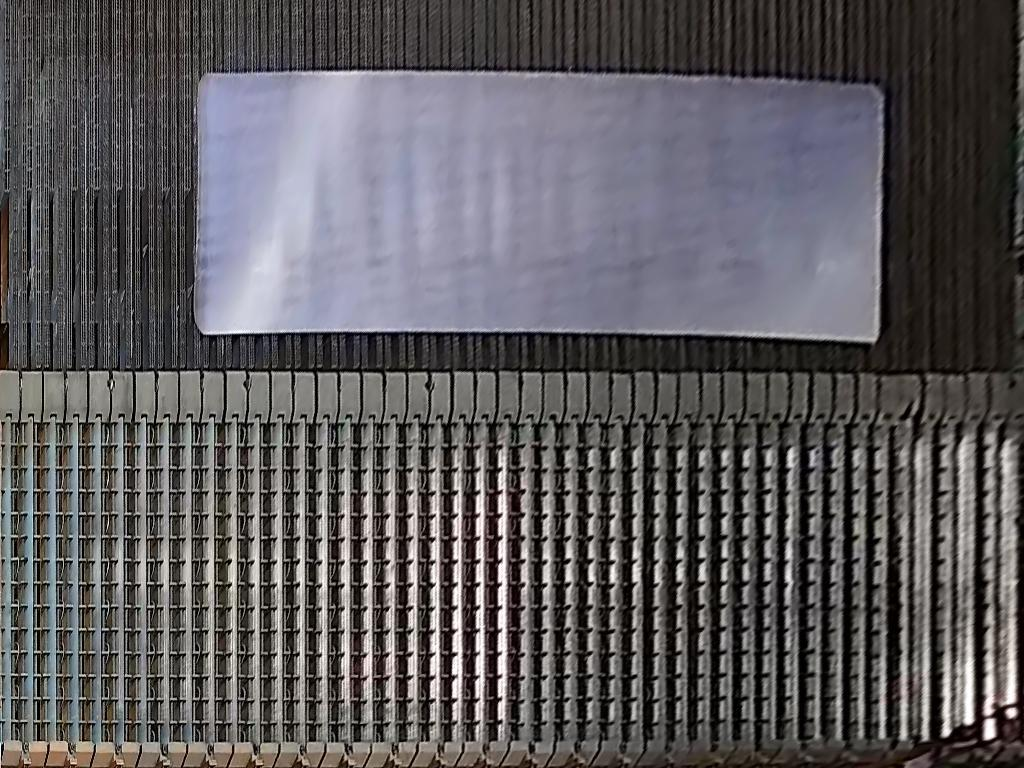steel: (195, 70, 881, 343)
